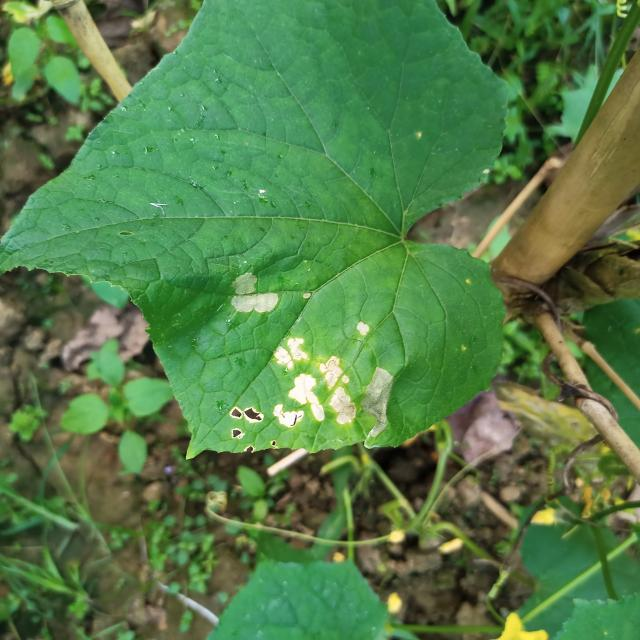disease_cucumber: (226, 321, 392, 442), (230, 270, 280, 314)
